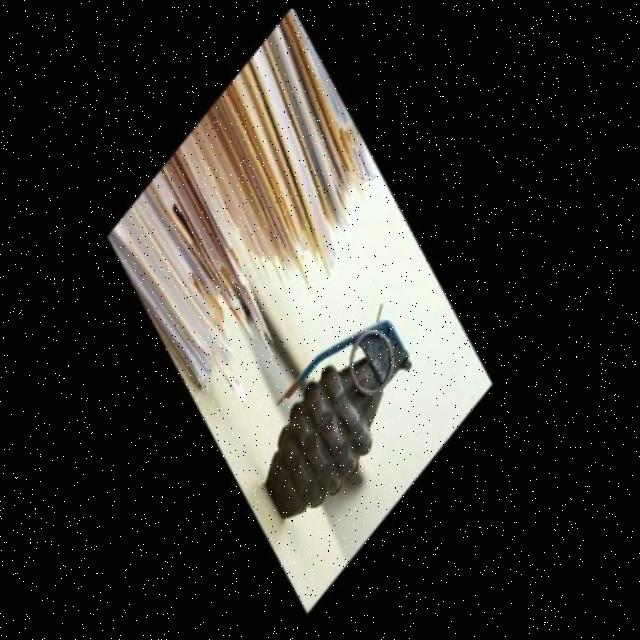grenade: (213, 269, 467, 557)
